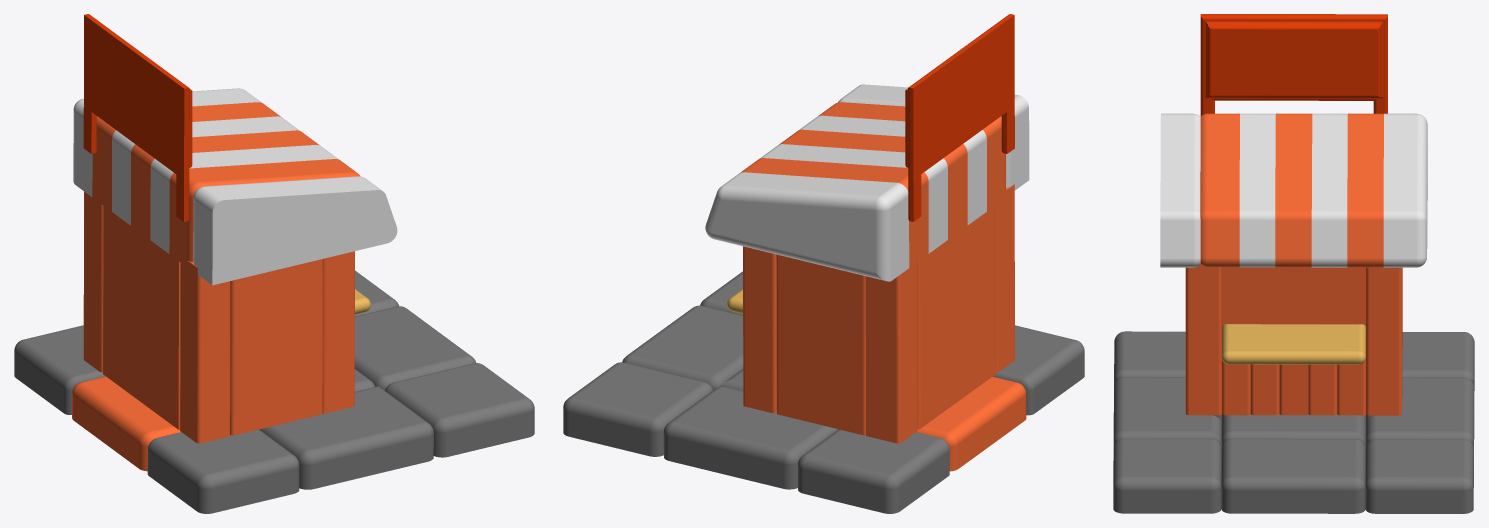
File: market.glb
The picture shows the model from 3 angles, left to right: view 1: azimuth 30°, elevation 25°; view 2: azimuth 150°, elevation 25°; view 3: azimuth 270°, elevation 25°; orthographic projection. The views are drawn at different scales.
Visible parts, largest first — view 1: Body63; view 2: Body63; view 3: Body63.
Boxes of the visible parts, <box> form: Body63: <box>14,14,534,513</box>; Body63: <box>563,14,1084,513</box>; Body63: <box>1113,14,1474,513</box>.
Bounding box in the file's own units: 0.0501 × 0.0551 × 0.0501.
